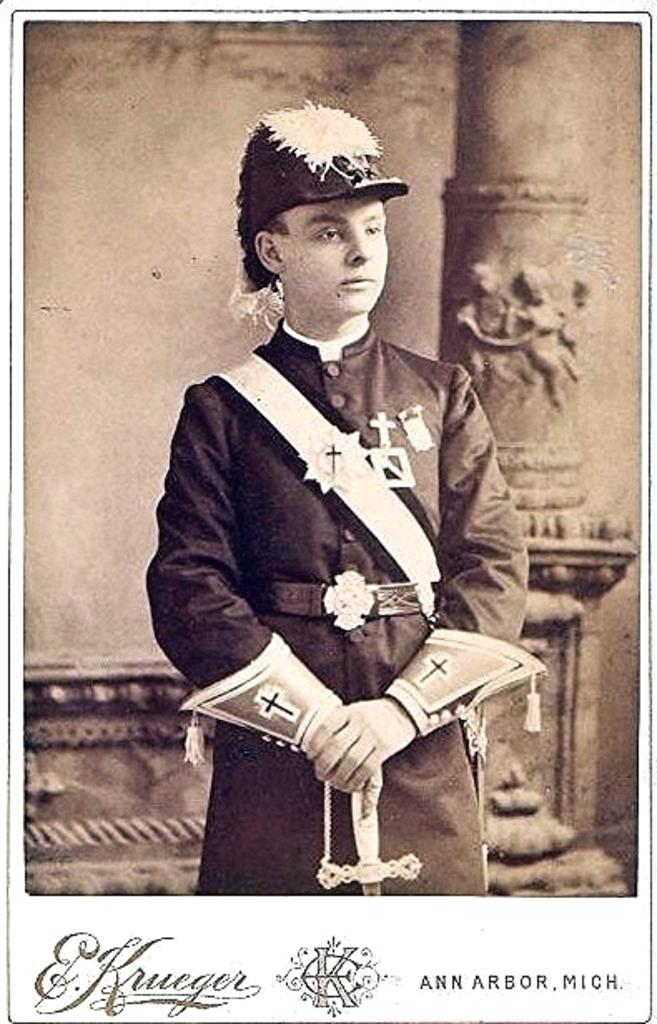Hat: (230, 101, 408, 292)
